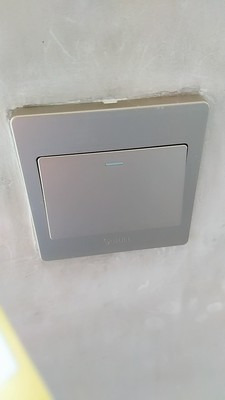switch: (32, 137, 190, 245)
